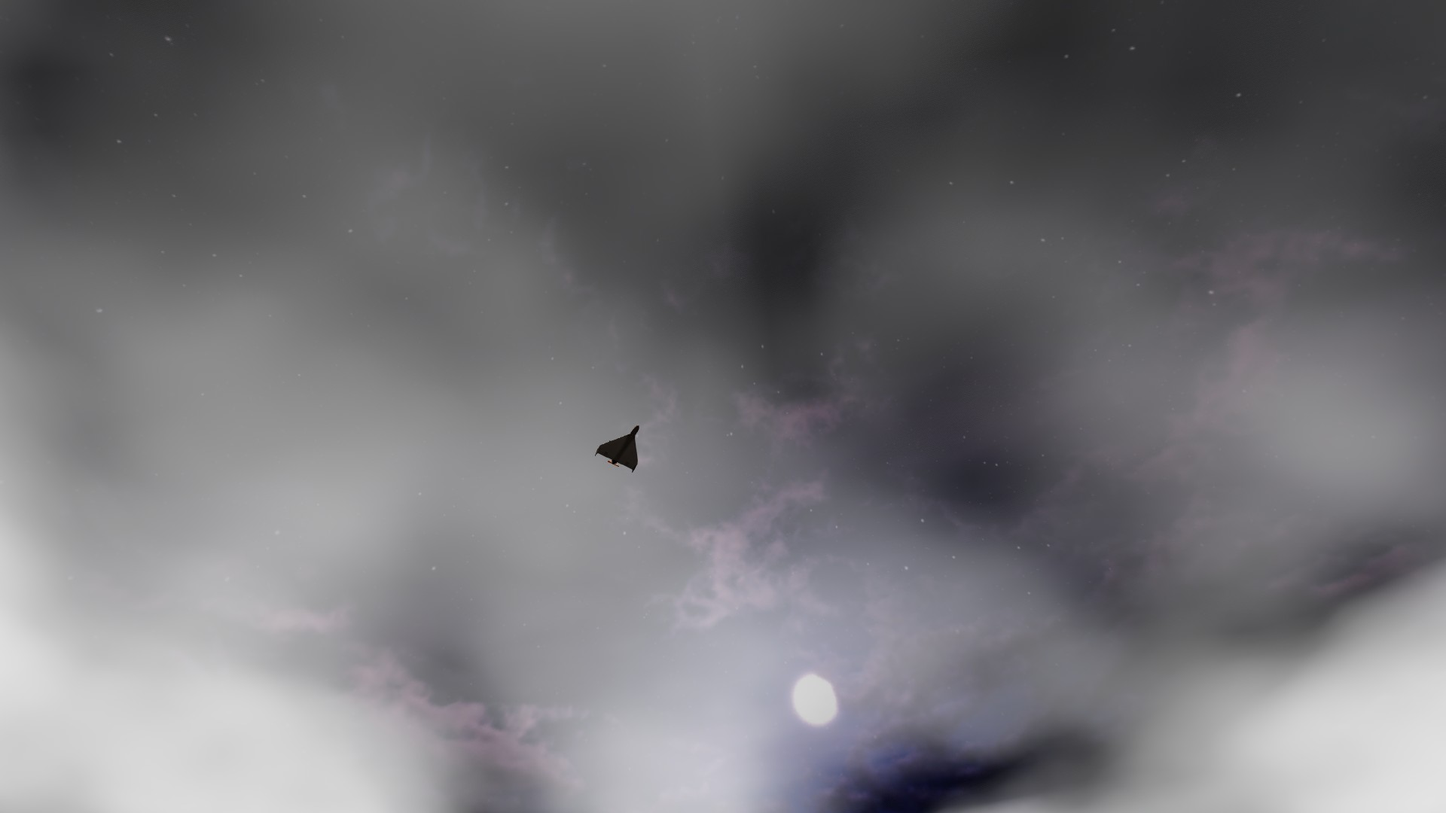shahed: (595, 425, 640, 474)
